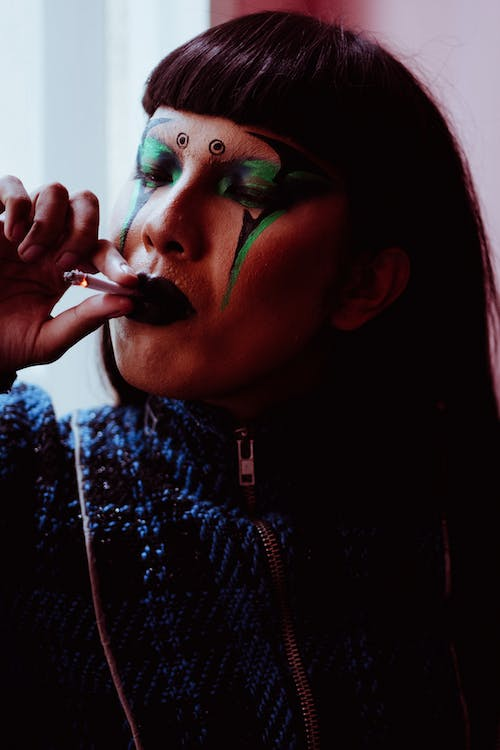cigarette: (61, 267, 140, 299)
